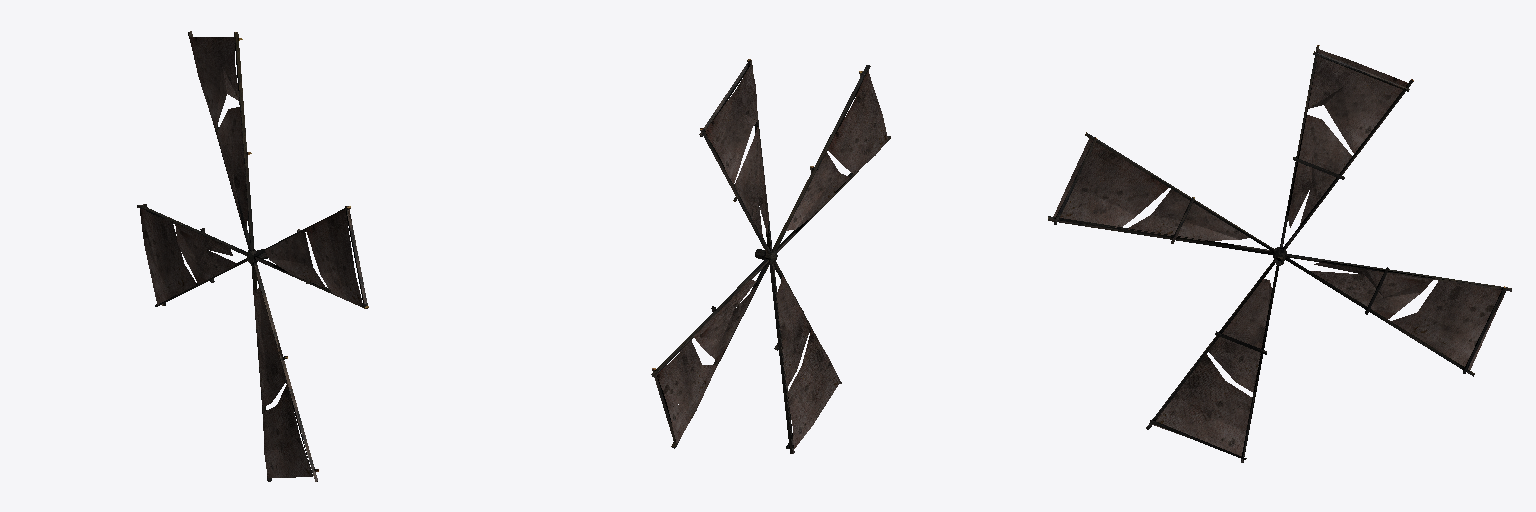
3 renders of one model, left to right at view 1: azimuth 30°, elevation 25°; view 2: azimuth 150°, elevation 25°; view 3: azimuth 270°, elevation 25°, orthographic.
Parts seen in each view (by area): view 1: mill.002; view 2: mill.002; view 3: mill.002.
Part boxes in pixels (x1,y1,x2,y2): mill.002: (137, 31, 368, 481); mill.002: (651, 59, 890, 453); mill.002: (1048, 45, 1511, 462).
Size of the model in its own units: 2.15 by 40.69 by 40.72.
Materials: 2 (1 with a texture image).